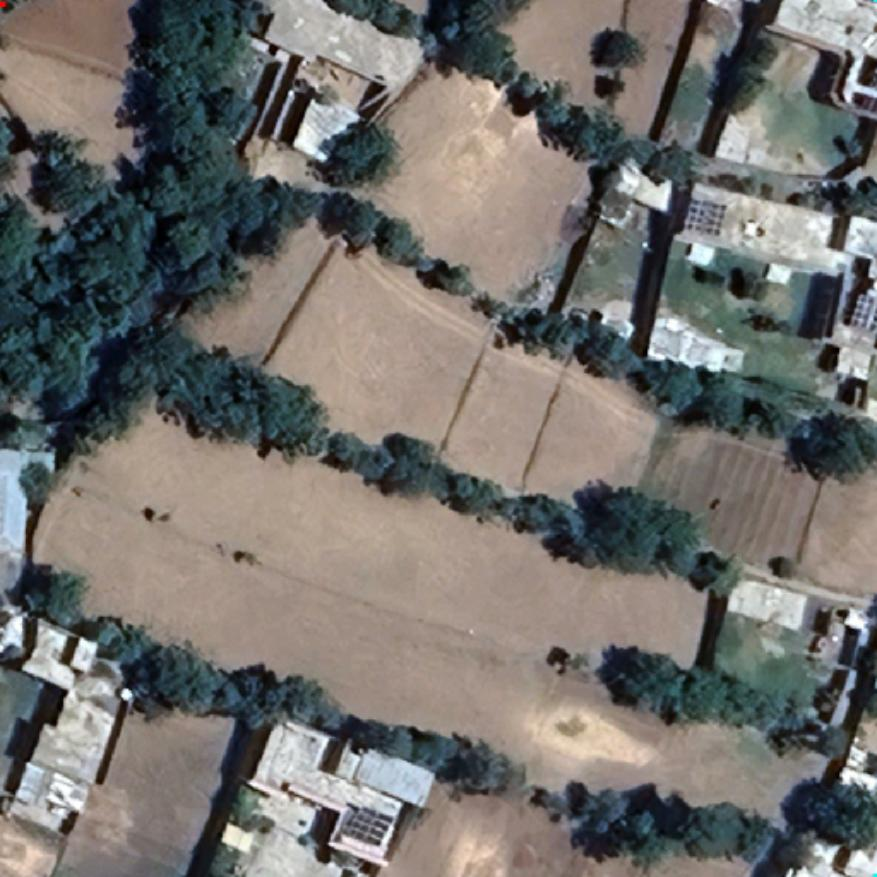Solarpanel: (339, 804, 395, 848), (684, 196, 728, 236), (848, 294, 875, 335)
